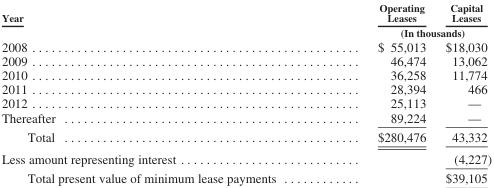table: (0, 0, 491, 185)
table column: (0, 0, 326, 185), (326, 0, 435, 185), (435, 0, 491, 185)
table column header: (0, 0, 491, 38)
table row: (0, 0, 491, 24), (0, 126, 491, 147), (0, 147, 491, 168), (0, 168, 491, 185), (0, 110, 491, 126), (0, 38, 491, 53), (0, 95, 491, 110), (0, 24, 491, 38), (0, 53, 491, 67), (0, 67, 491, 81), (0, 81, 491, 95)
table spanning cell: (0, 0, 326, 38), (326, 24, 491, 38)
